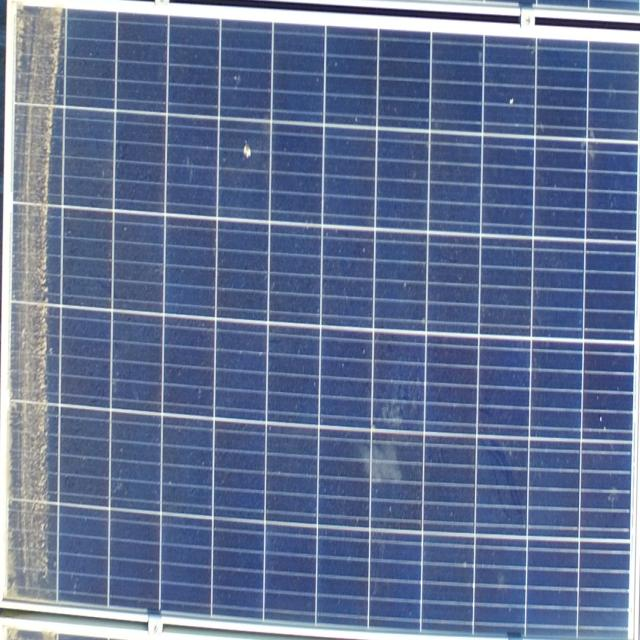Dust: (2, 0, 98, 621), (358, 419, 406, 492)
bird-droppings: (238, 136, 255, 162), (506, 92, 516, 112)
